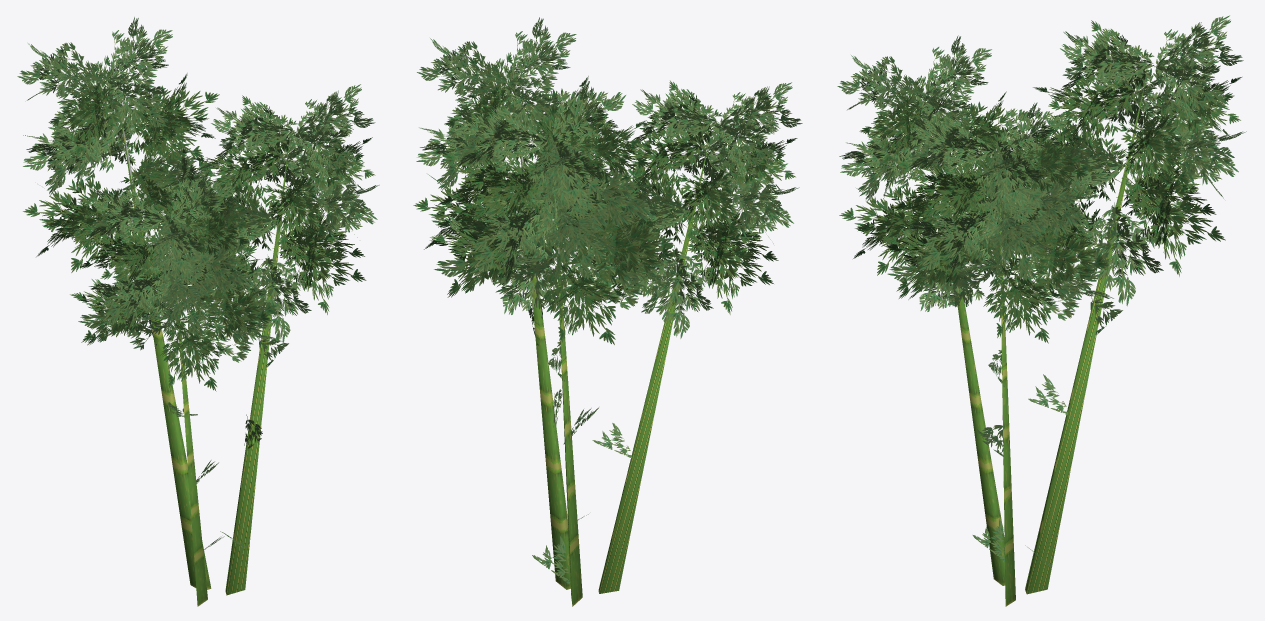
The model's file is m_bombooLOD2.fbx.
3 renders of one model, left to right at view 1: azimuth 30°, elevation 25°; view 2: azimuth 150°, elevation 25°; view 3: azimuth 270°, elevation 25°, orthographic. The views are drawn at different scales.
Parts seen in each view (by area): view 1: mesh_bamboo04; view 2: mesh_bamboo04; view 3: mesh_bamboo04.
Boxes of the visible parts, bbox=[...] form: mesh_bamboo04: bbox=[17, 17, 379, 606]; mesh_bamboo04: bbox=[413, 17, 802, 606]; mesh_bamboo04: bbox=[837, 15, 1246, 606].
Bounding box in the file's own units: 4.06 × 6.27 × 4.38.
